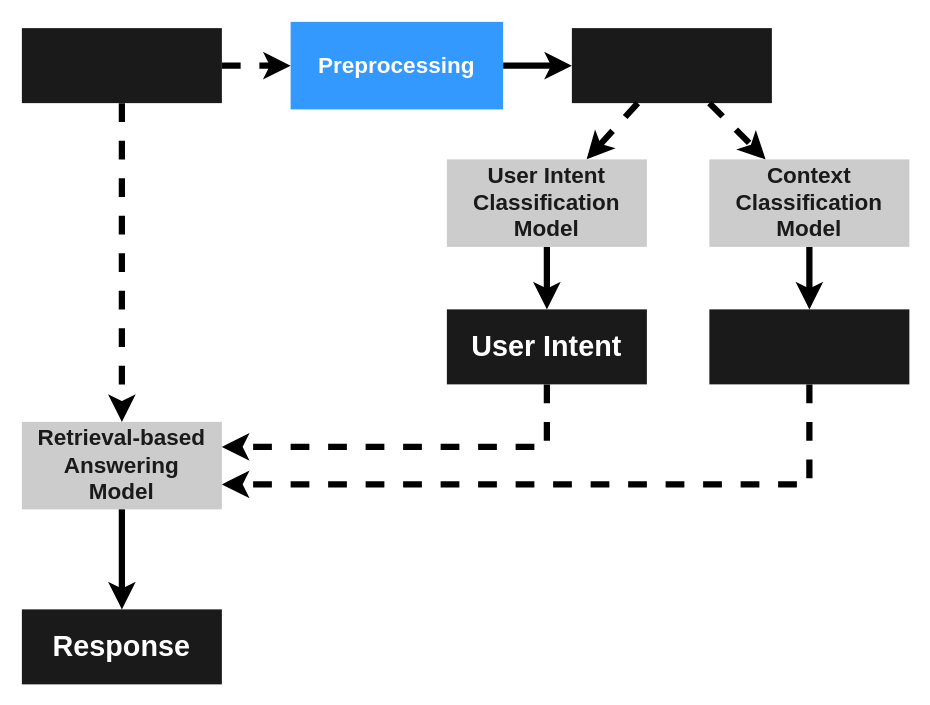
This 930x705 diagram has some shape labels left out. Each missing label, with the centre of its shape:
Context: point 809,346
Input Sentence: point 121,65
TF-IDF Vector: point 671,65
